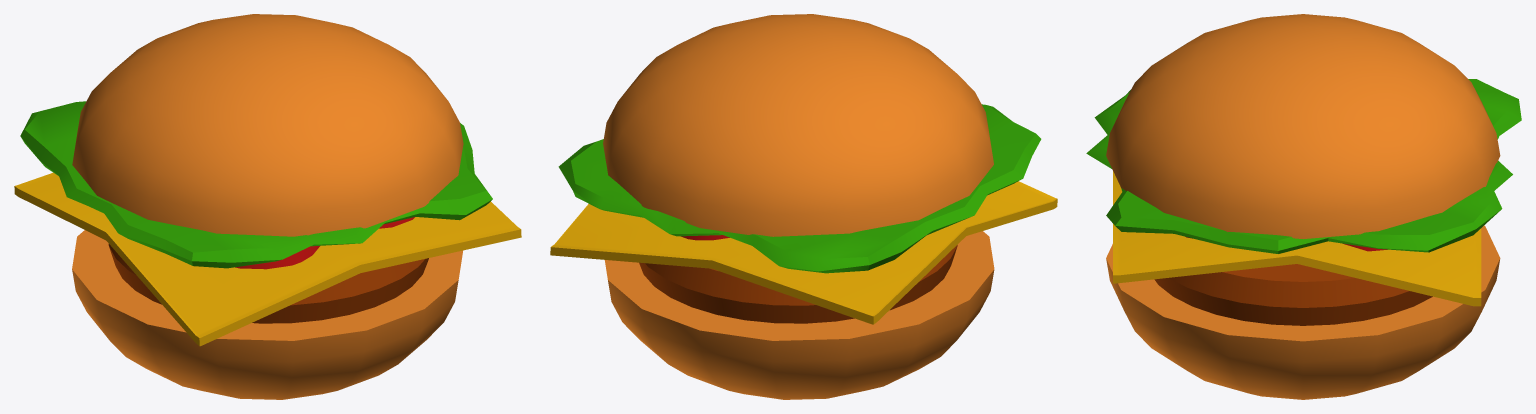
File: Burger.fbx
3 renders of one model, left to right at view 1: azimuth 30°, elevation 25°; view 2: azimuth 150°, elevation 25°; view 3: azimuth 270°, elevation 25°, orthographic.
Visible parts, largest first — view 1: Burger; view 2: Burger; view 3: Burger.
Boxes of the visible parts, box(x1,y1,x2,y2) form: Burger: box(14, 14, 521, 399); Burger: box(550, 14, 1057, 399); Burger: box(1086, 14, 1521, 399).
Bounding box in the file's own units: 14.58 × 12.45 × 14.8.
